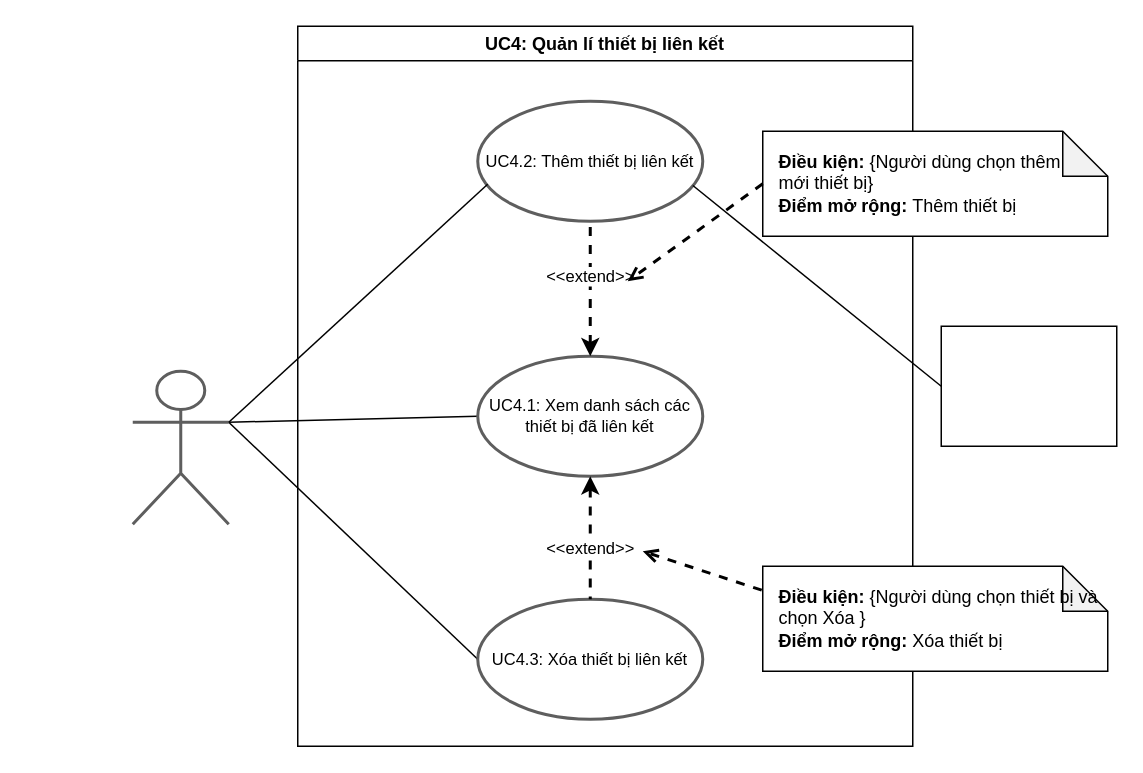
The diagram is 1143 pixels wide and 773 high, and some of its shapes have lost their labels. Each missing label, with the centre of its shape:
Người dùng: (180,447)
« actor » Ứng dụng di động: (1028,385)
